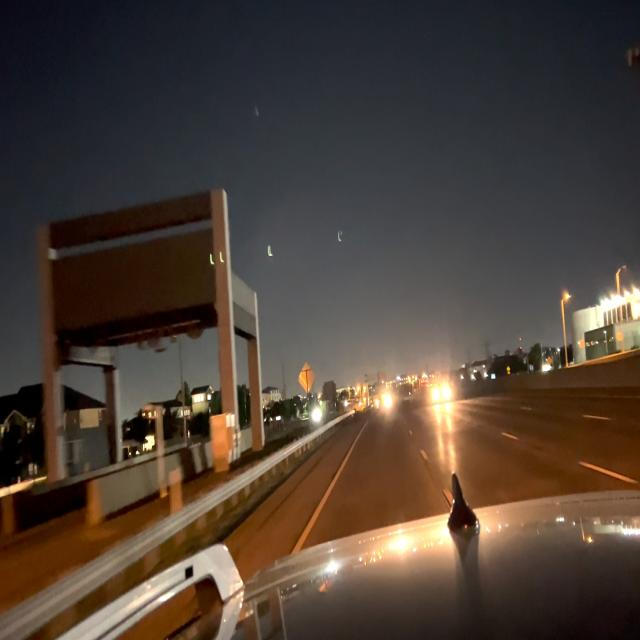back-of-sign: (299, 362, 315, 393)
